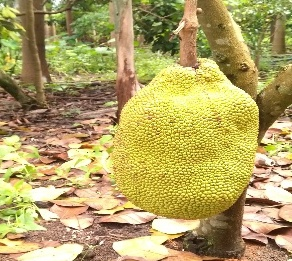Mit: (106, 62, 256, 214)
